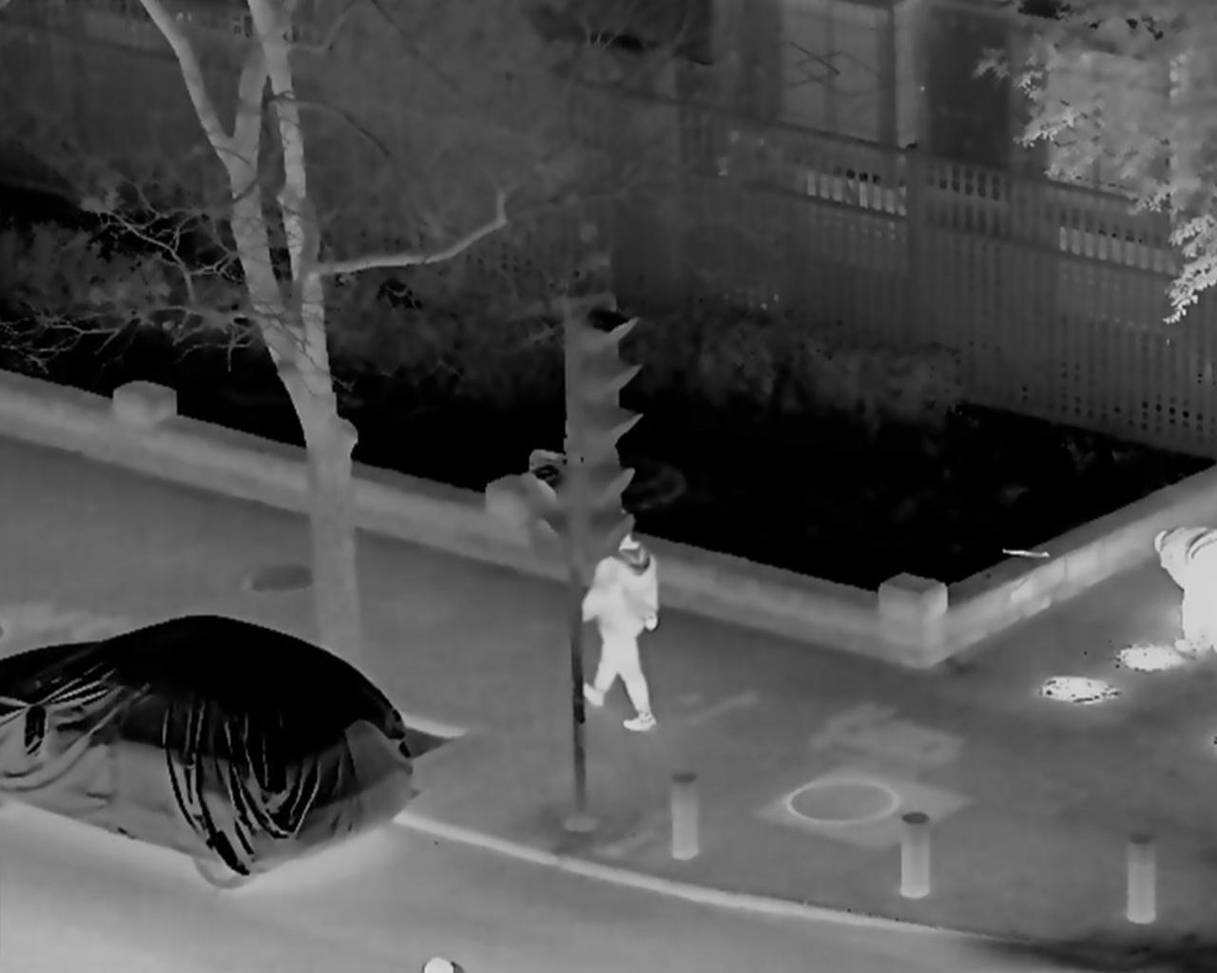person: (576, 506, 661, 734), (1146, 524, 1217, 660)
